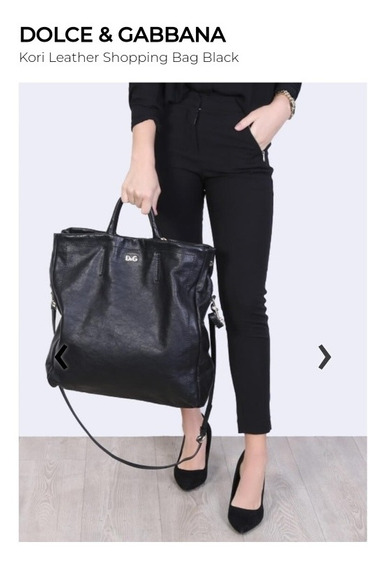cartera: (46, 191, 224, 413)
